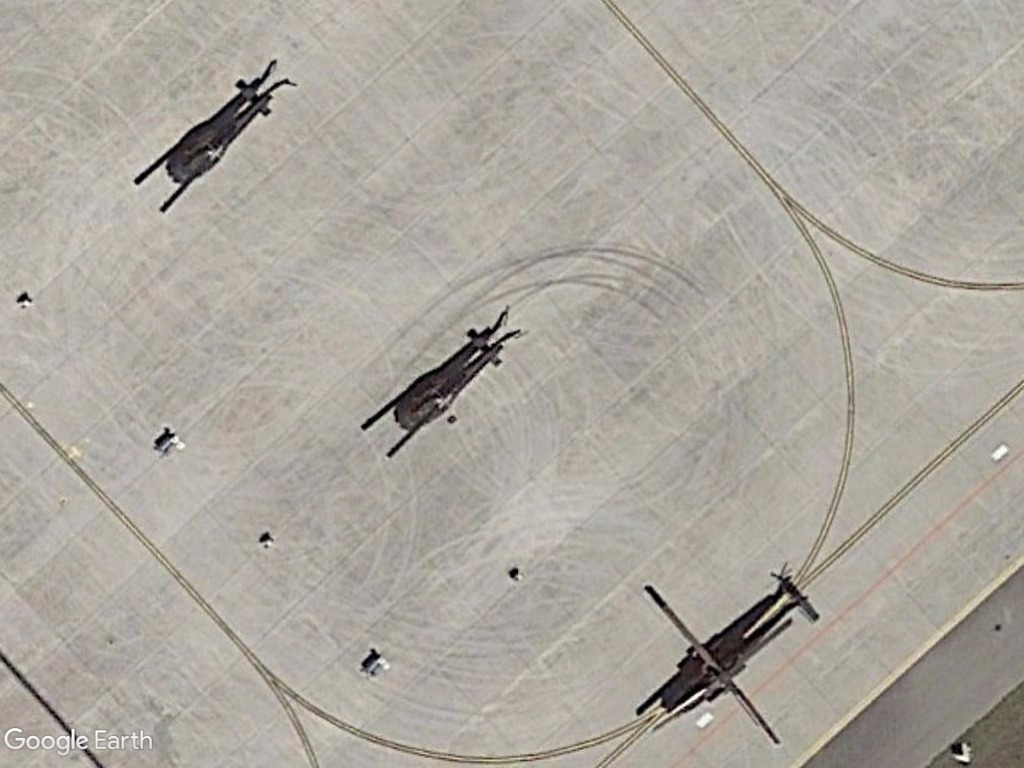helicopter: (633, 574, 825, 753), (135, 76, 314, 228), (376, 322, 525, 468)
